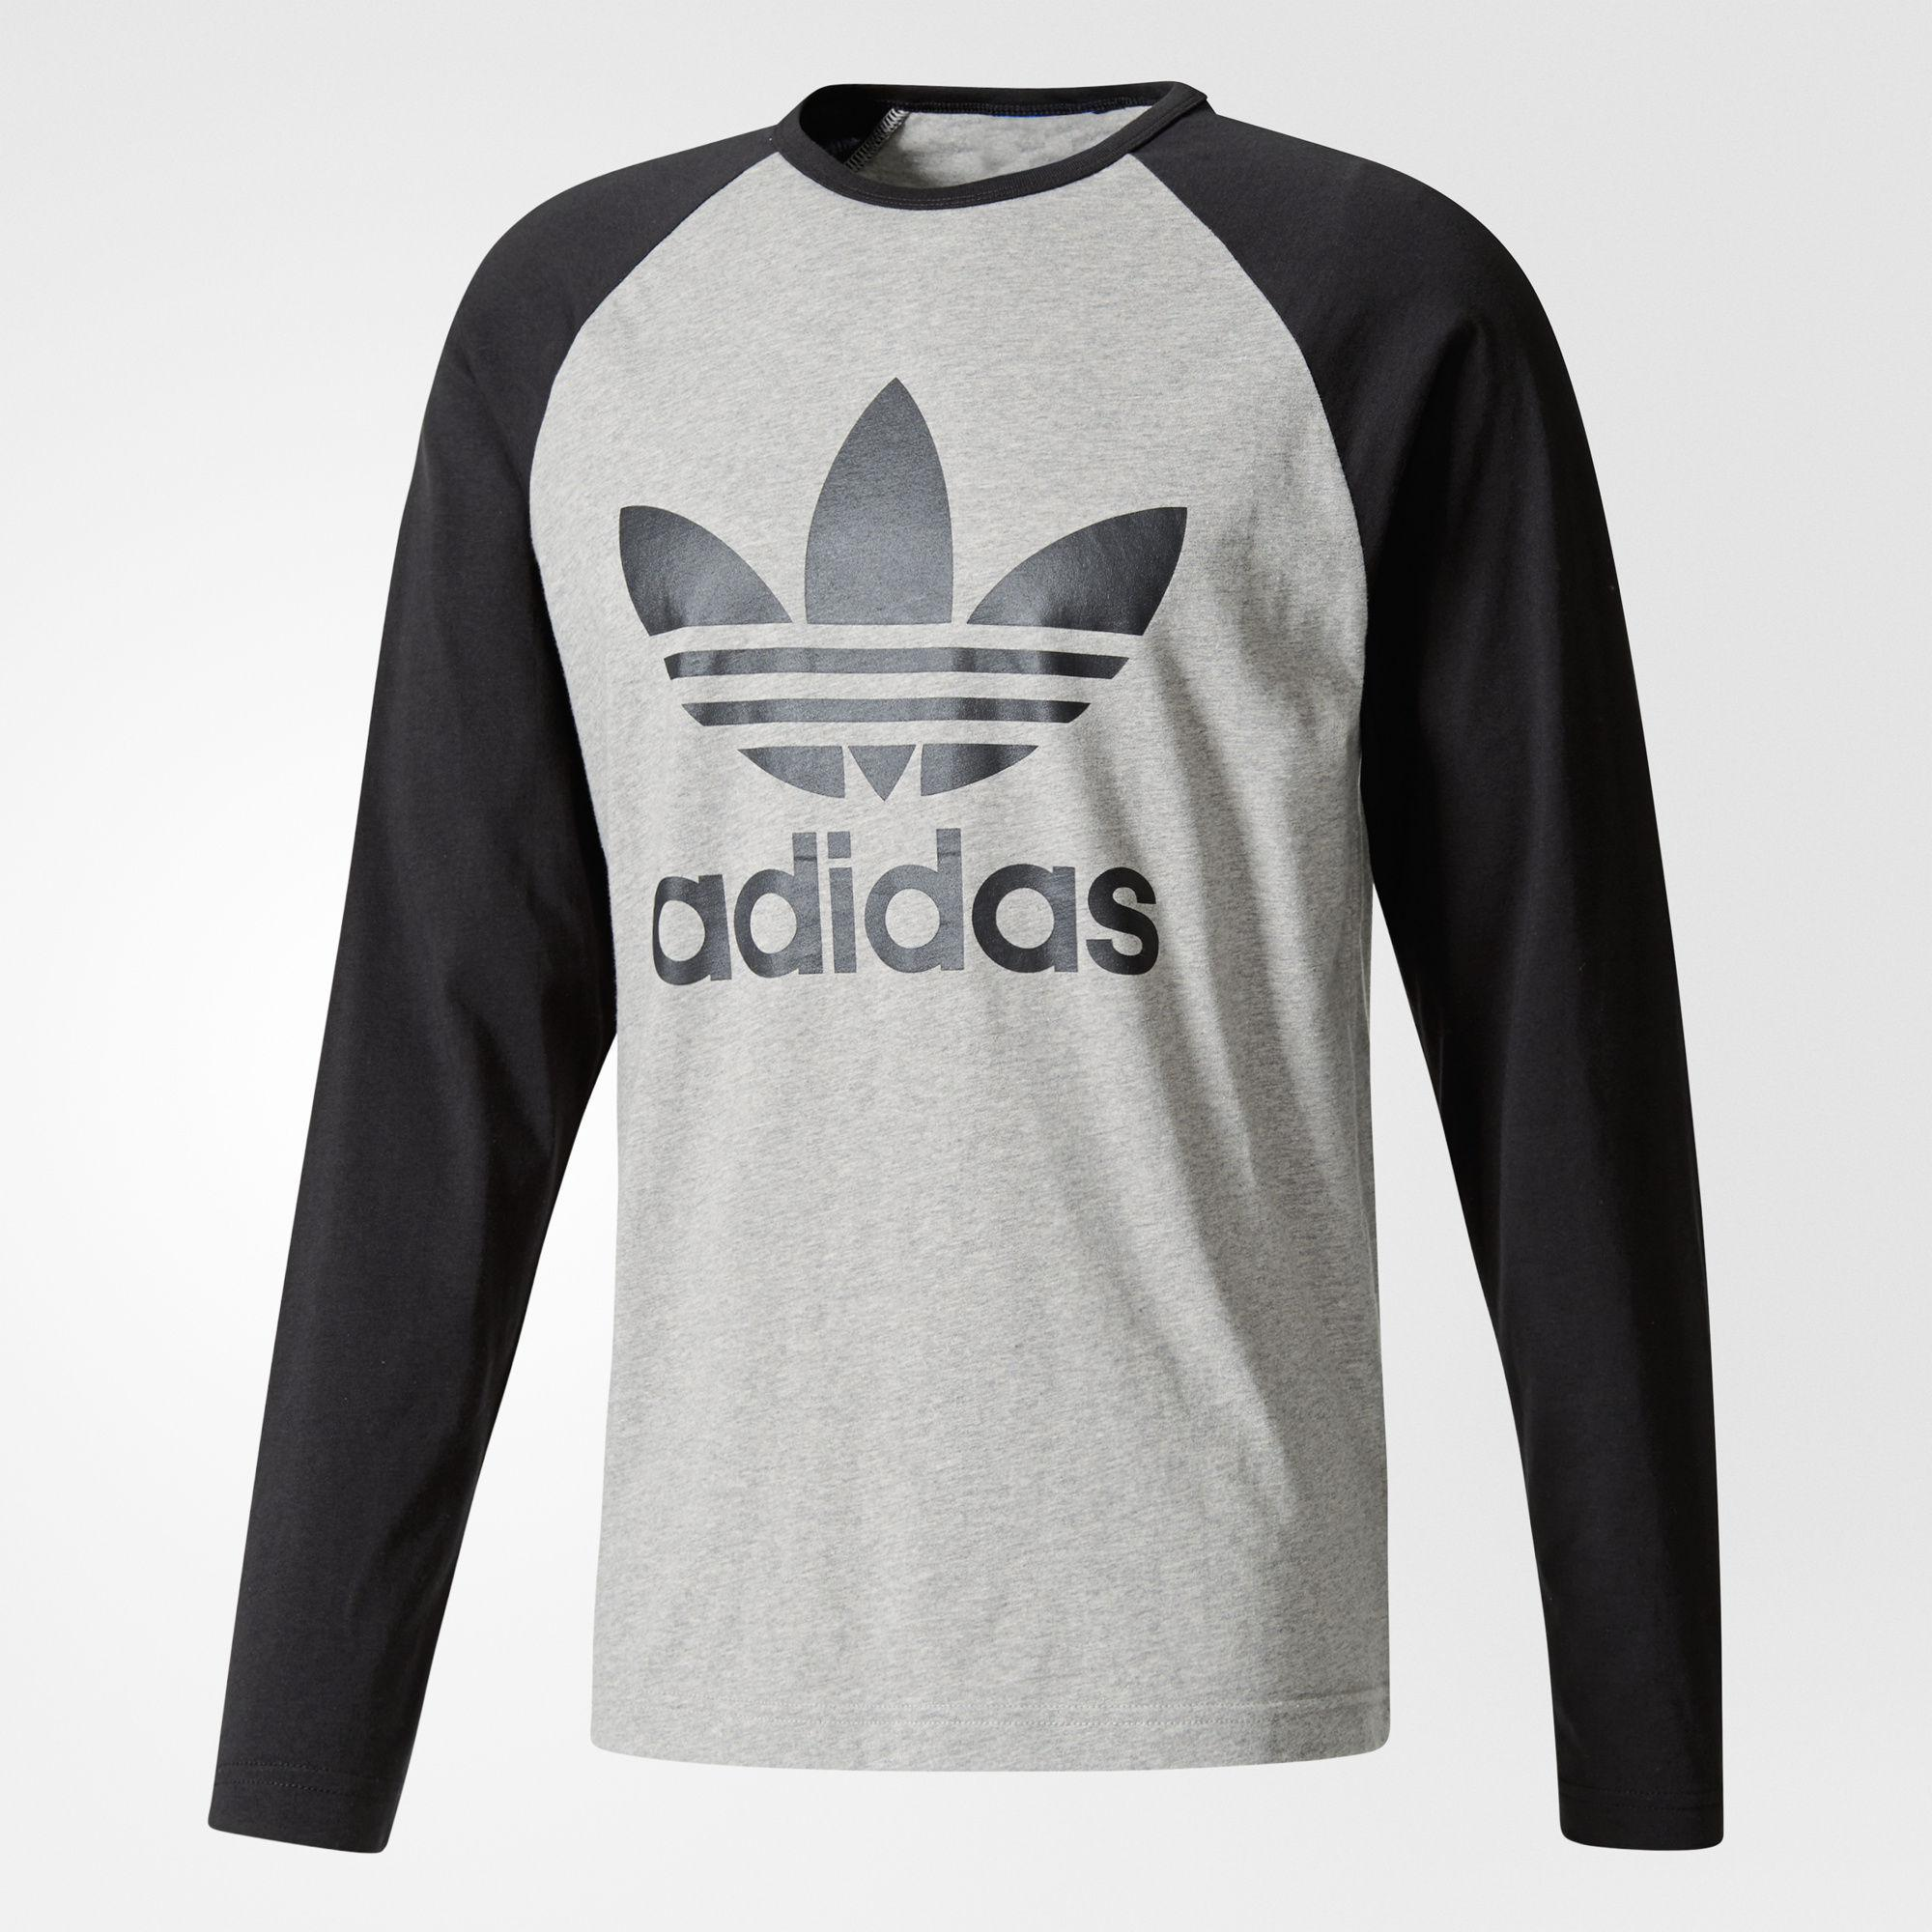teeshirt: (119, 46, 1932, 1907)
